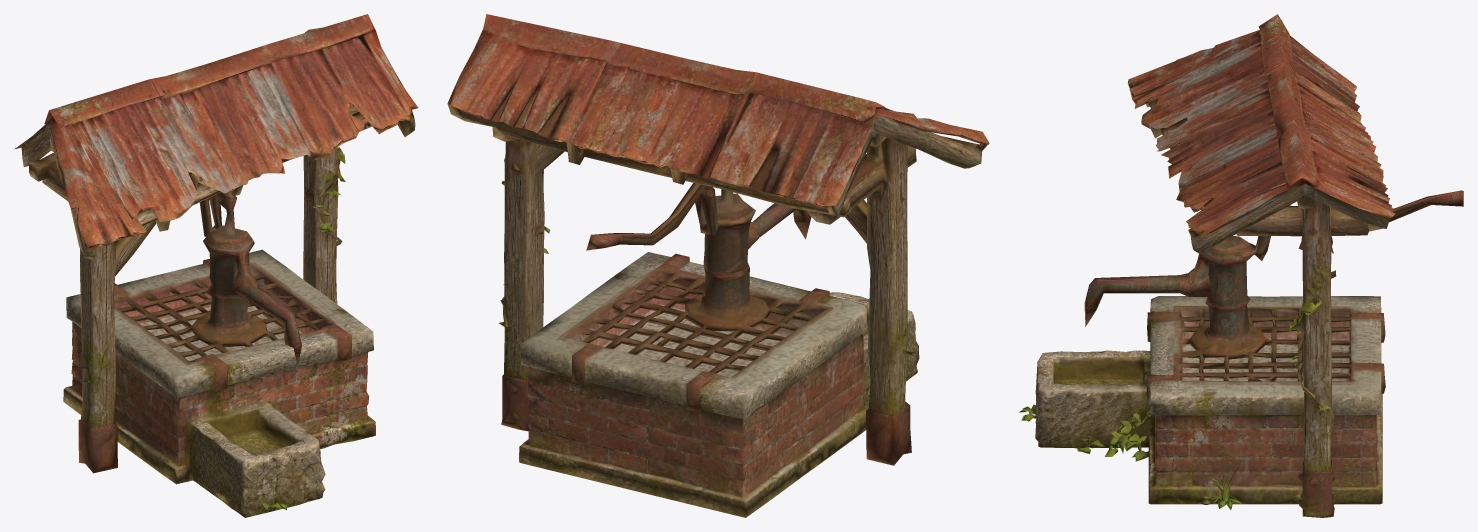
File: halt_well.glb
The picture shows the model from 3 angles, left to right: view 1: azimuth 30°, elevation 25°; view 2: azimuth 150°, elevation 25°; view 3: azimuth 270°, elevation 25°; orthographic projection. The views are drawn at different scales.
Parts seen in each view (by area): view 1: rusty well pump 3d model; view 2: rusty well pump 3d model; view 3: rusty well pump 3d model.
Boxes of the visible parts, <box> form: rusty well pump 3d model: <box>15,14,418,517</box>; rusty well pump 3d model: <box>447,14,989,517</box>; rusty well pump 3d model: <box>1019,14,1463,517</box>.
Size of the model in its own units: 3.03 by 2.8 by 3.12.
Materials: 1 (1 with a texture image).
